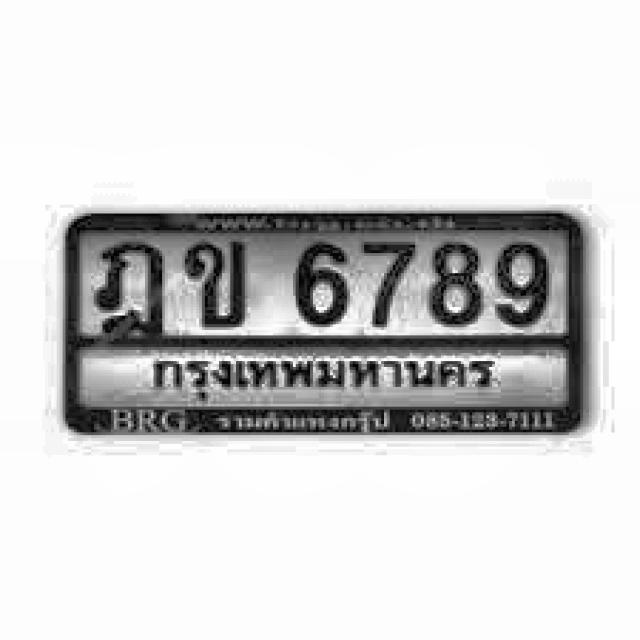license-plate: (56, 199, 604, 448)
